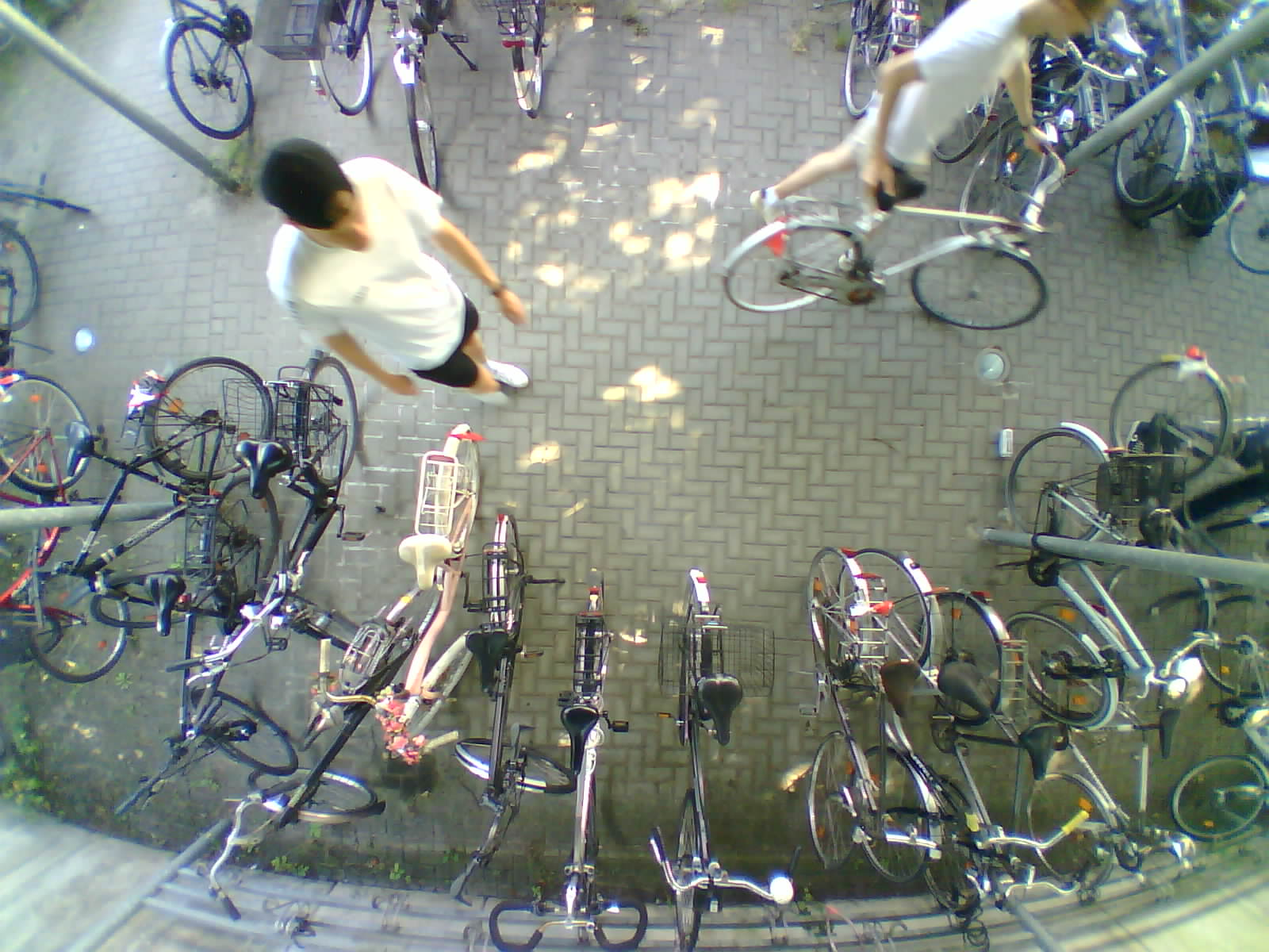bicylce: (715, 140, 1057, 329), (354, 418, 504, 772), (86, 350, 272, 629), (249, 577, 443, 826), (1008, 415, 1160, 717), (0, 367, 133, 685), (1002, 611, 1146, 895), (905, 594, 1028, 913), (654, 569, 755, 952), (533, 575, 633, 952), (174, 476, 296, 778), (254, 342, 368, 655), (456, 503, 572, 796), (793, 536, 890, 873), (847, 547, 946, 872)
saddle: (233, 434, 293, 502), (935, 653, 995, 719), (462, 621, 513, 697), (140, 563, 186, 644), (696, 668, 740, 750), (873, 655, 922, 728), (301, 685, 350, 757), (870, 165, 939, 216), (558, 702, 604, 777), (394, 529, 448, 592), (1017, 712, 1062, 783), (1100, 8, 1155, 59), (1024, 540, 1070, 594), (59, 420, 95, 483), (1140, 508, 1178, 560), (1159, 702, 1179, 767)
